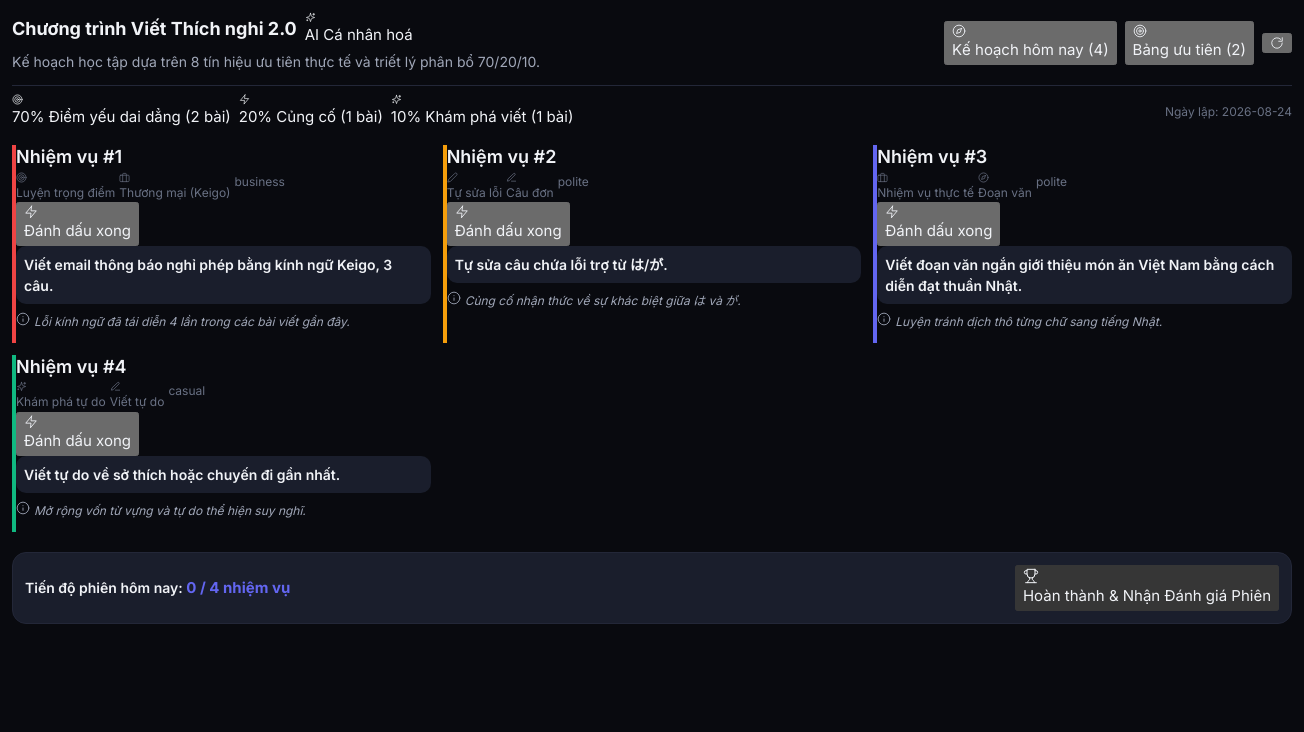
Scenario: AdaptiveCurriculumPanel › switches to priorities sub-tab and displays ranked weaknesses
Expected: the text "Kế hoạch hôm nay (4)" is shown, [952, 40, 1109, 59]
Click the button "Bảng ưu tiên (2)".
click(1189, 43)  # box [1125, 21, 1254, 65]
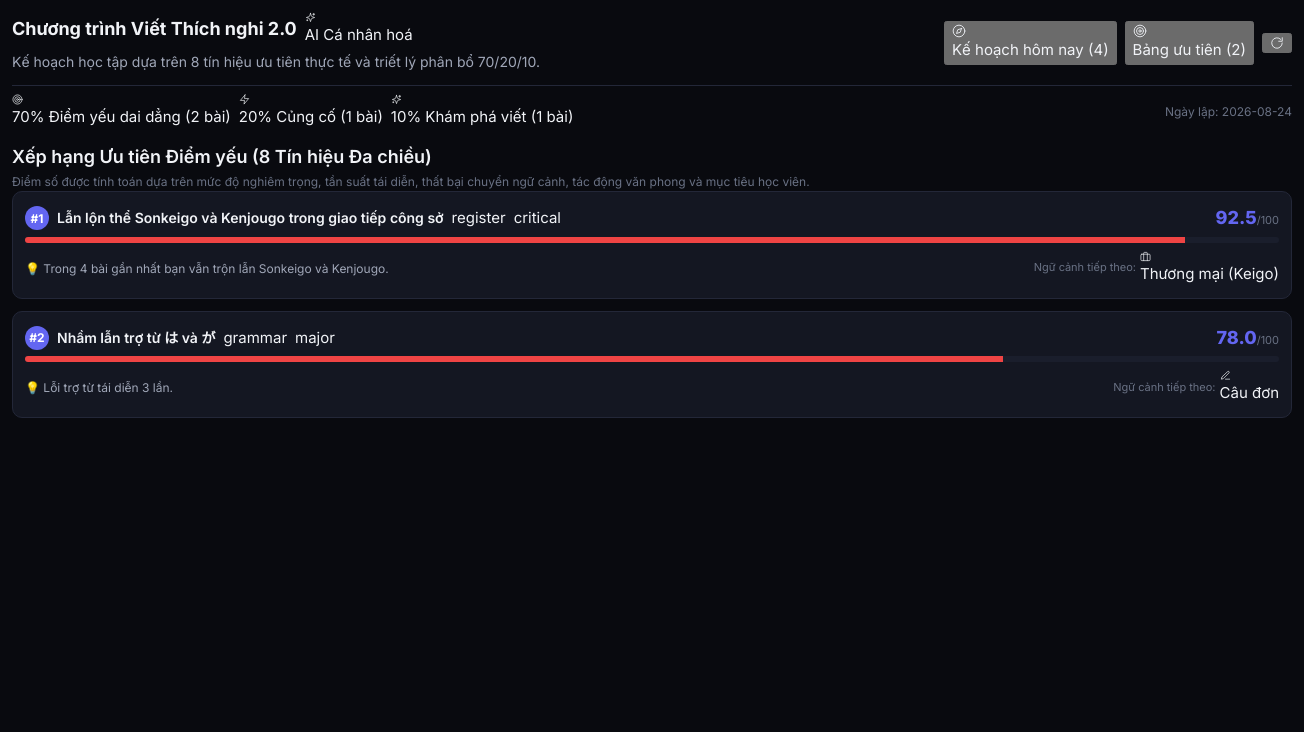
Now the text "Xếp hạng Ưu tiên Điểm yếu (8 Tín hiệu Đa chiều)" is shown, box [12, 146, 432, 167]
Now the text "Lẫn lộn thể Sonkeigo và Kenjougo trong giao tiếp công sở" is shown, box [57, 207, 444, 230]
Now the text "92.5" is shown, box [1216, 207, 1257, 228]
